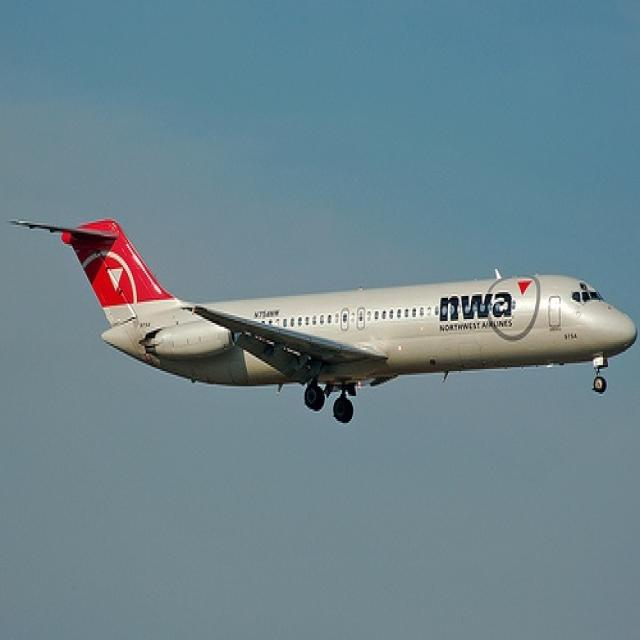aeroplane: (5, 211, 639, 423)
